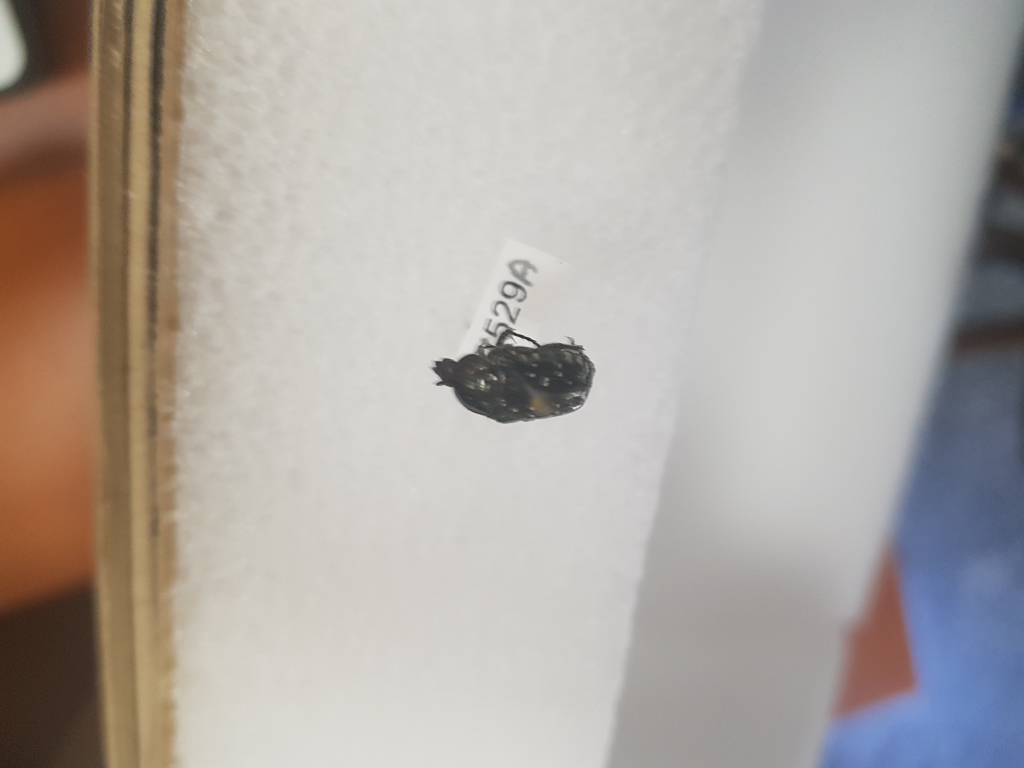Oxythyrea_funesta: (431, 339, 595, 421)
